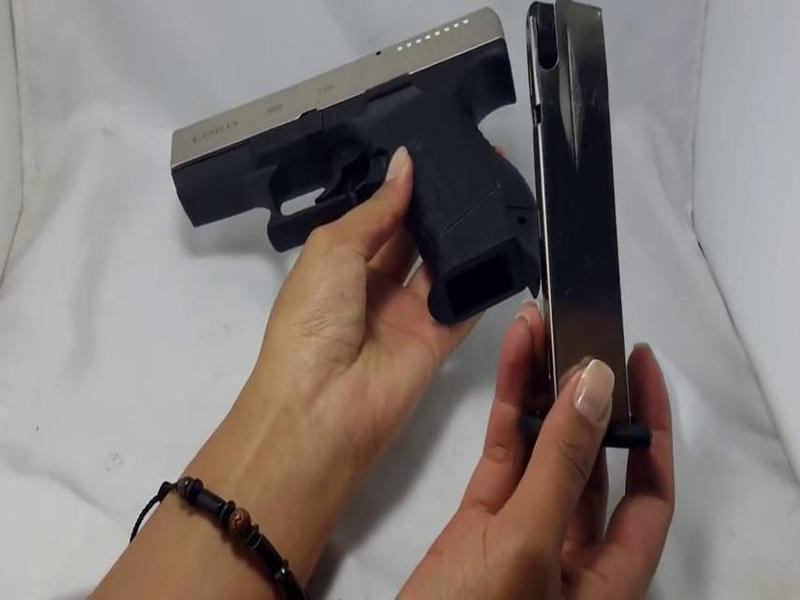Pistola: (142, 14, 538, 318)
